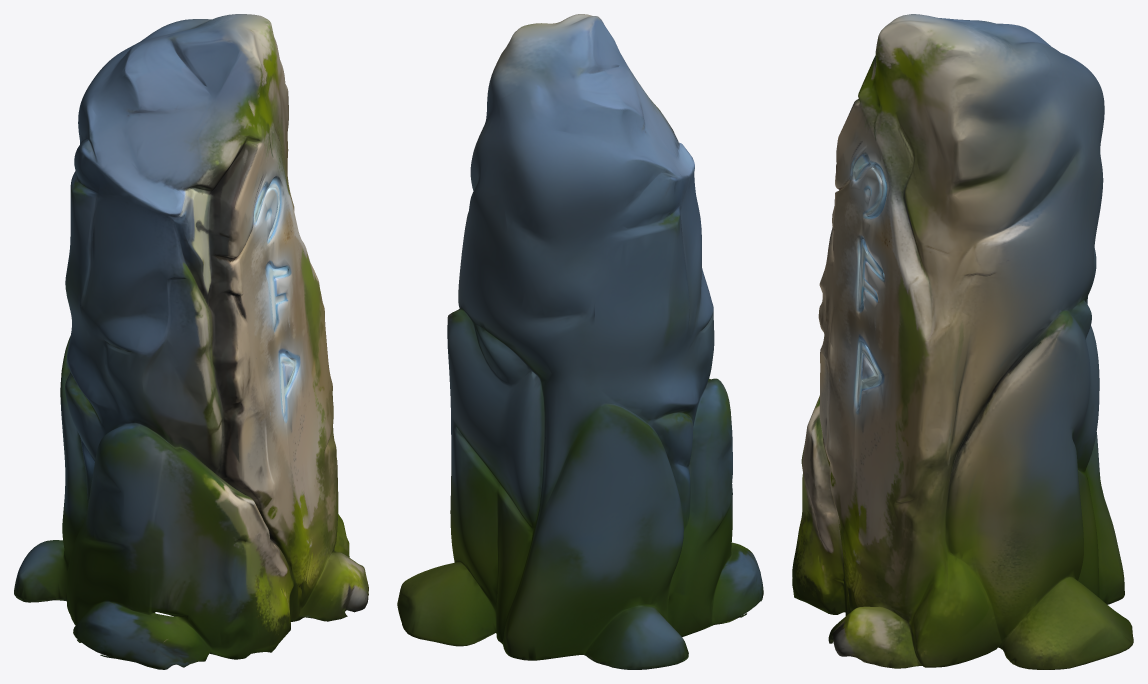
Rendered from stone_runes_hunyuan_2026-11-13_ae7bb1d9.glb.
3 renders of one model, left to right at view 1: azimuth 30°, elevation 25°; view 2: azimuth 150°, elevation 25°; view 3: azimuth 270°, elevation 25°, orthographic. The views are drawn at different scales.
Parts seen in each view (by area): view 1: node_0; view 2: node_0; view 3: node_0.
Part boxes in pixels (<box>): node_0: <box>14,14,368,669</box>; node_0: <box>397,14,763,669</box>; node_0: <box>792,14,1133,669</box>.
Size of the model in its own units: 0.5292 by 1.02 by 0.5316.
Materials: 1 (1 with a texture image).
